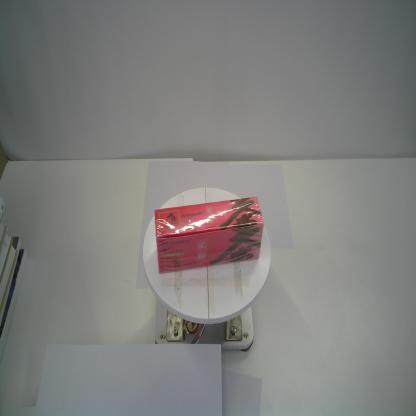Instant Drink: (155, 197, 264, 274)
